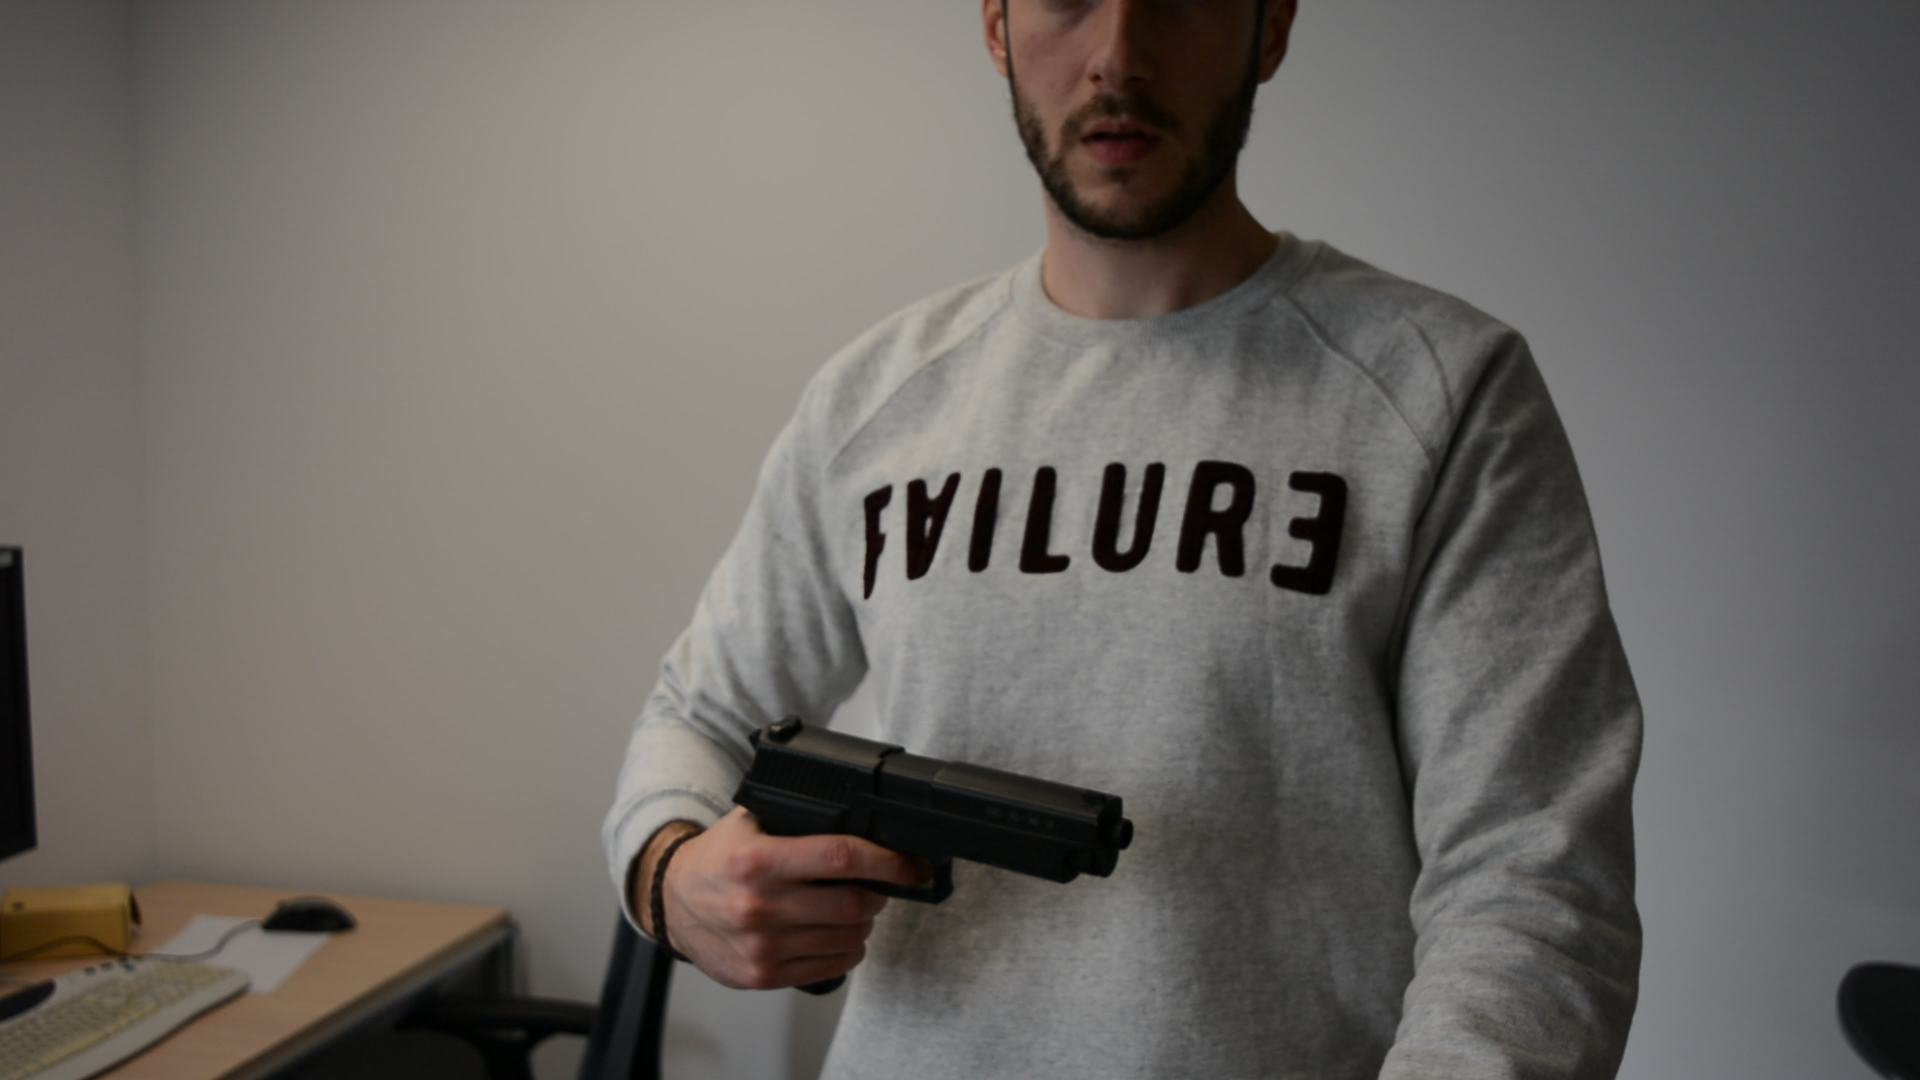pistol: (731, 713, 1137, 997)
